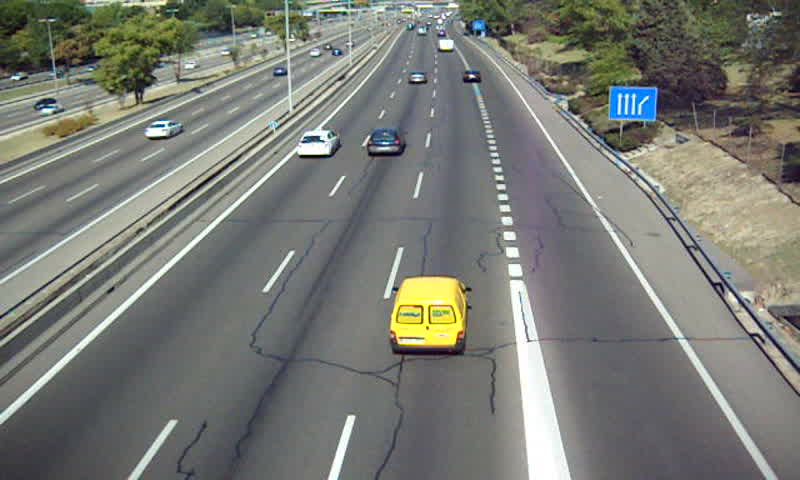car: (298, 129, 340, 156), (368, 128, 404, 156), (407, 71, 428, 86), (462, 70, 483, 84)
van: (390, 277, 469, 351)
